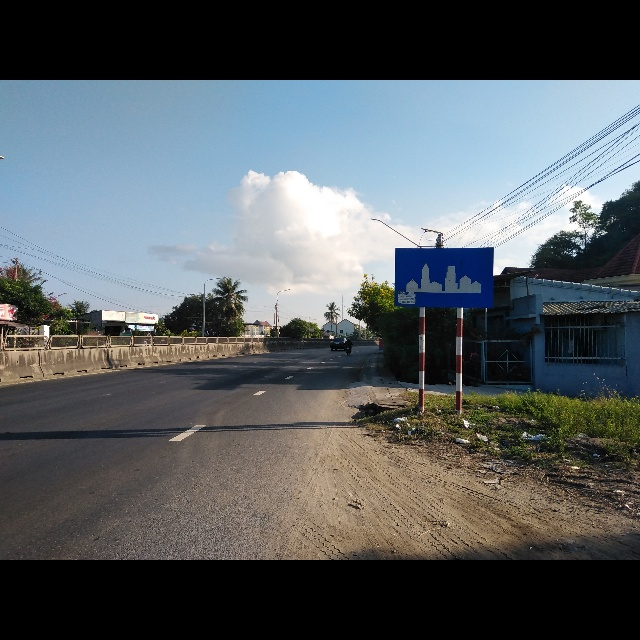Khu đông dân cư: (394, 248, 493, 308)
